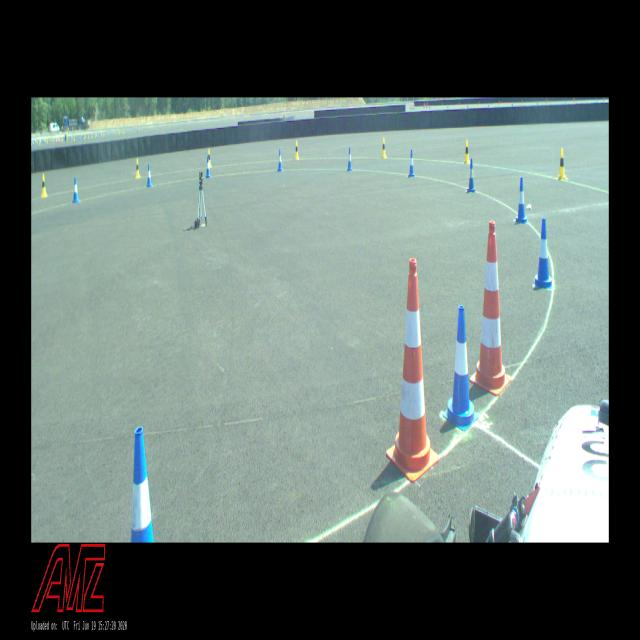blue_cone: (444, 306, 474, 430), (130, 427, 154, 543), (534, 220, 553, 286), (515, 178, 527, 224), (467, 158, 476, 193), (72, 177, 79, 203), (408, 149, 414, 178), (146, 164, 152, 188), (205, 156, 211, 177), (347, 146, 352, 171), (278, 148, 282, 172)
large_orange_cone: (386, 260, 439, 478), (471, 224, 512, 392)
yellow_cone: (556, 146, 567, 182), (464, 140, 470, 163), (40, 174, 46, 196), (381, 136, 386, 158), (135, 159, 140, 178), (294, 140, 299, 158), (208, 149, 211, 167)
